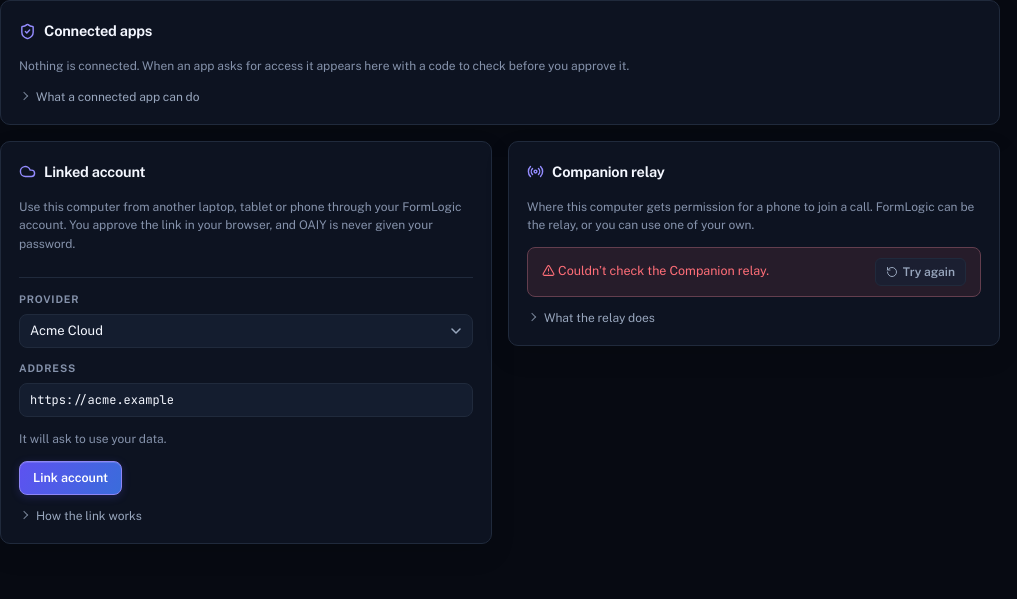
Test case: ConnectionsPanel · Companion relay › waits for a known relay state before offering the connection form and retries a failed read
Click the button "Try again" at {"x": 920, "y": 272}, box [875,258,966,286]
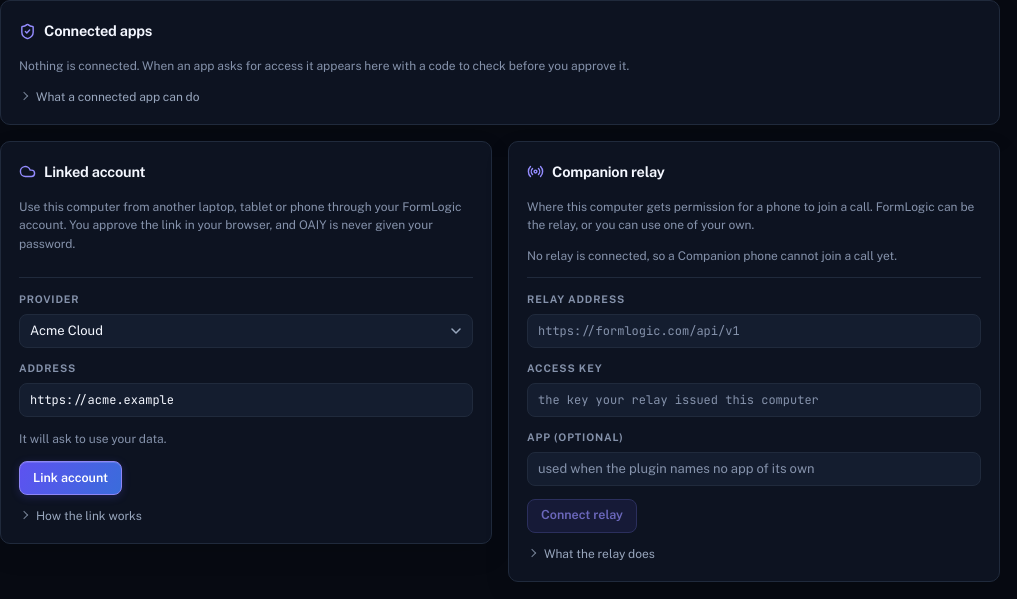
Expected: the password field labelled "Access key" is shown, [527,383,981,417]
